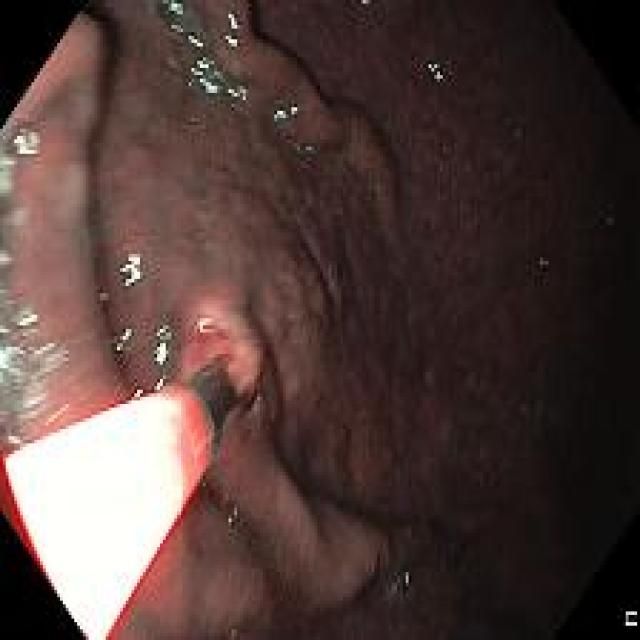blur: (2, 57, 265, 433)
bubbles: (294, 139, 315, 159)
color misalignment: (625, 610, 638, 628)
contrast: (500, 2, 637, 636)
instrument: (2, 345, 261, 638)
saturation: (6, 393, 183, 640)
specularity: (119, 253, 143, 288), (11, 126, 39, 155), (0, 346, 26, 370), (154, 324, 168, 368), (189, 55, 213, 76), (33, 339, 57, 356), (15, 311, 40, 327), (192, 318, 213, 336), (116, 327, 131, 352), (198, 77, 219, 94), (427, 62, 443, 81), (227, 85, 247, 100), (187, 33, 204, 50), (226, 12, 240, 31), (223, 32, 239, 47), (153, 375, 166, 393), (272, 108, 287, 122), (129, 386, 142, 401), (168, 1, 184, 13), (6, 434, 23, 445), (169, 21, 184, 33), (289, 102, 299, 114), (403, 571, 410, 586), (539, 257, 548, 266), (231, 509, 237, 517), (227, 516, 232, 524)
